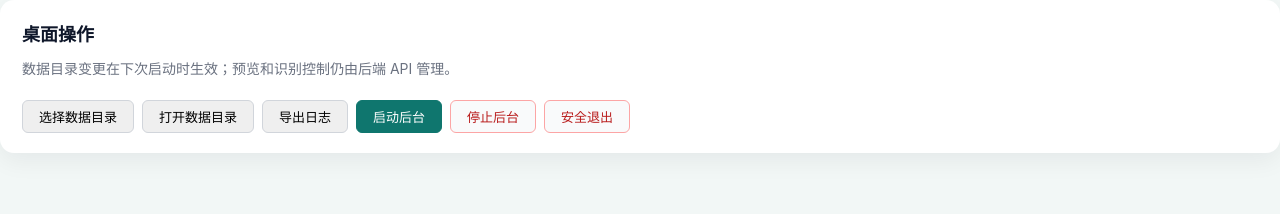
Test: DesktopOperations › uses the agreed bridge methods and reports launcher failures
Click the button "选择数据目录": (78, 117) left=22, top=100, right=134, bottom=133
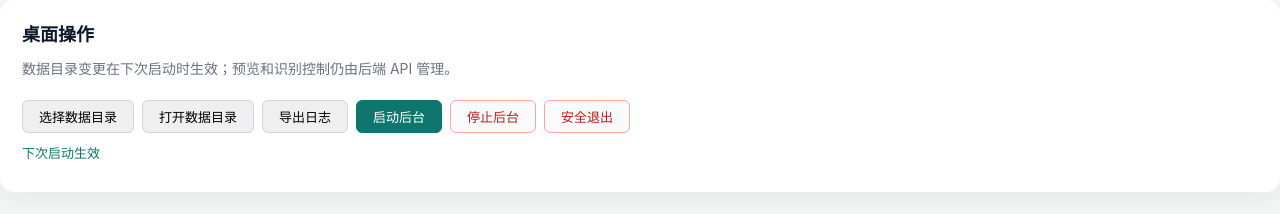
Click the button "导出日志": (305, 117) left=262, top=100, right=348, bottom=133
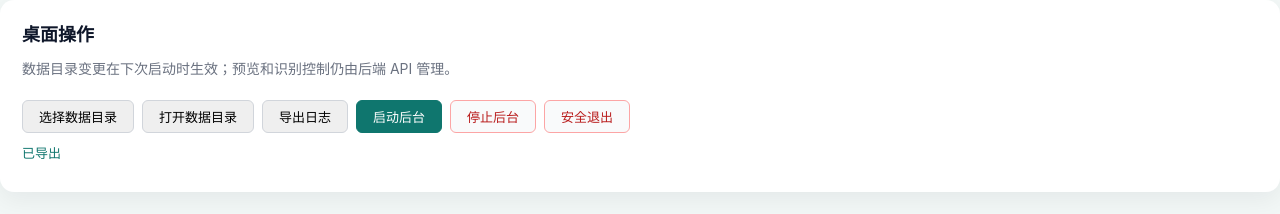
Click the button "启动后台": (399, 117) left=356, top=100, right=442, bottom=133
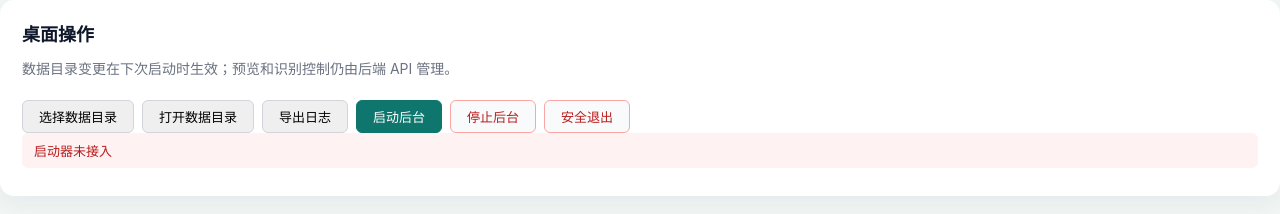
Now the message reads "启动器未接入", box left=34, top=143, right=112, bottom=159
